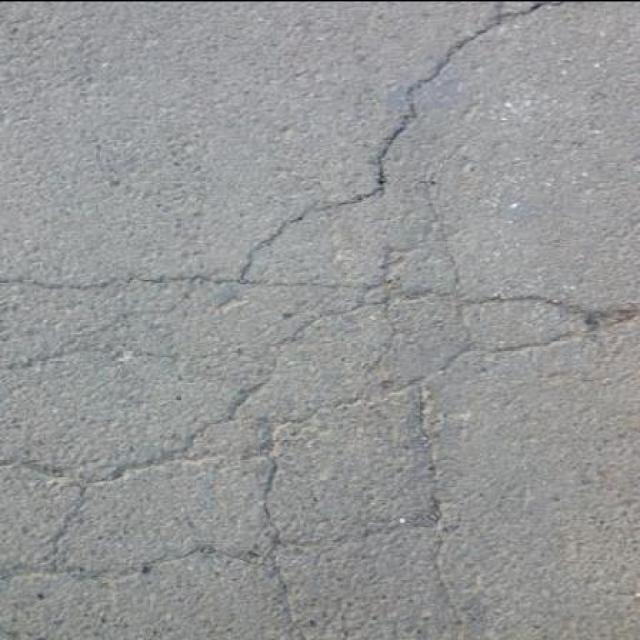Crack: (29, 0, 563, 290), (254, 341, 479, 640), (388, 169, 639, 379), (0, 425, 322, 579), (2, 301, 398, 416), (29, 240, 458, 305), (0, 545, 278, 580), (485, 295, 639, 352), (281, 572, 307, 640)
